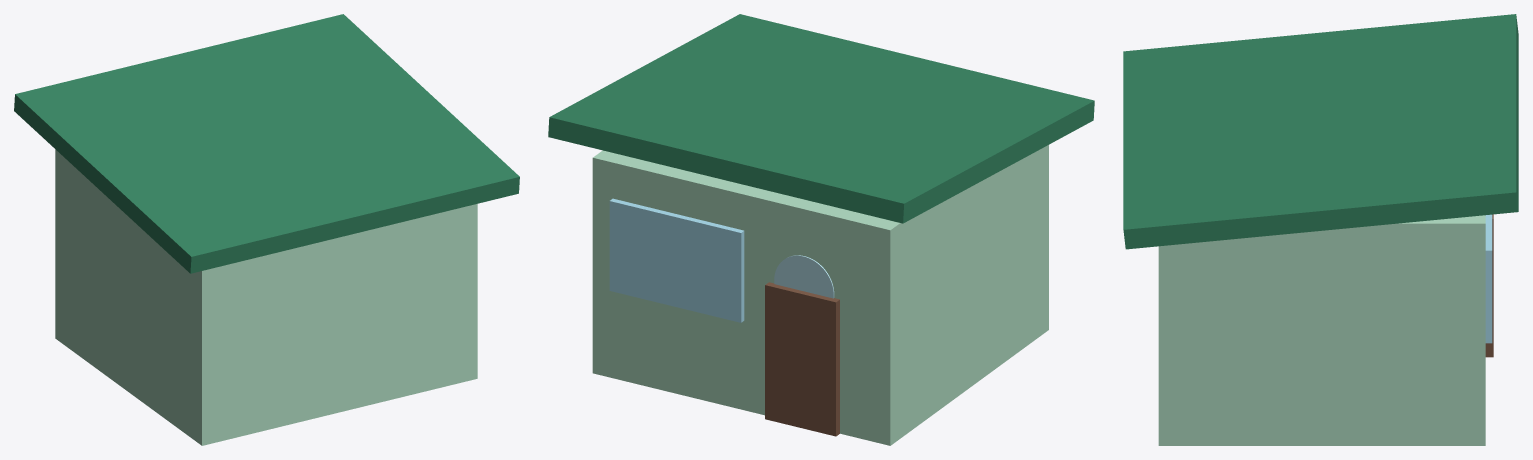
File: house-b.glb
The picture shows the model from 3 angles, left to right: view 1: azimuth 30°, elevation 25°; view 2: azimuth 150°, elevation 25°; view 3: azimuth 270°, elevation 25°; orthographic projection. The views are drawn at different scales.
Parts seen in each view (by area): view 1: roofslab, walls; view 2: walls, roofslab, bigwin, door, roundwin; view 3: roofslab, walls, bigwin, door.
Part boxes in pixels (x1,y1,x2,y2): roofslab: [14, 14, 519, 273]; walls: [55, 149, 477, 445]; walls: [592, 145, 1048, 445]; roofslab: [548, 14, 1094, 223]; bigwin: [609, 198, 744, 322]; door: [765, 282, 839, 436]; roundwin: [774, 255, 834, 298]; roofslab: [1123, 14, 1518, 249]; walls: [1158, 215, 1485, 445]; bigwin: [1485, 214, 1492, 343]; door: [1485, 214, 1493, 357].
Size of the model in its own units: 3.1 by 2.17 by 2.9.
